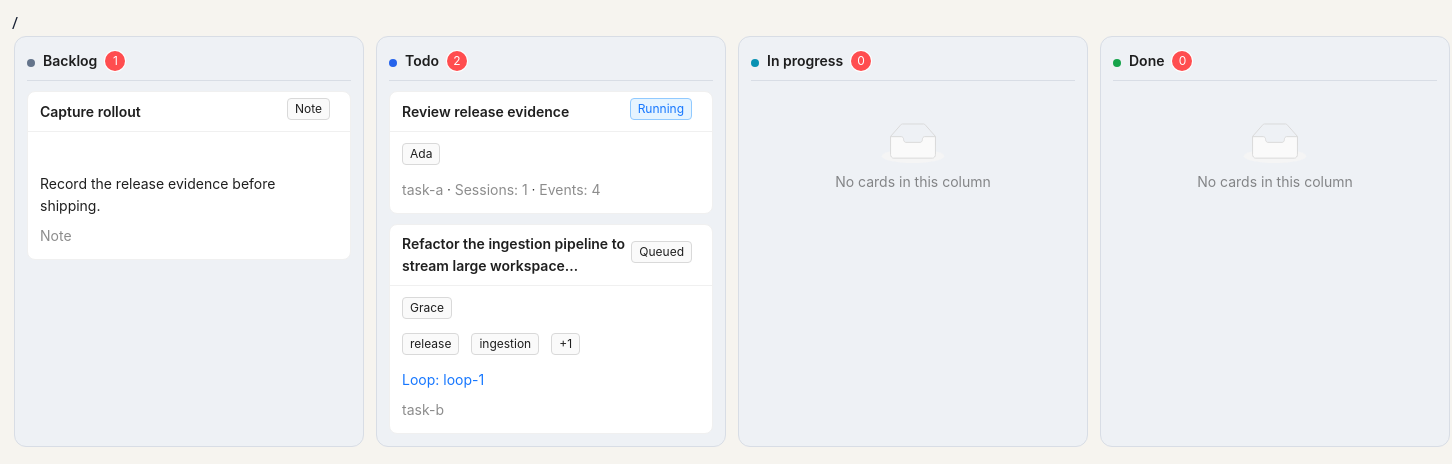
Test case: TaskBoardGrid card activation › navigates a task card with a session to exactly the session route
Click the link with aria-label "Open task session: Review release evidence".
click(551, 152)  # box [389, 91, 713, 214]
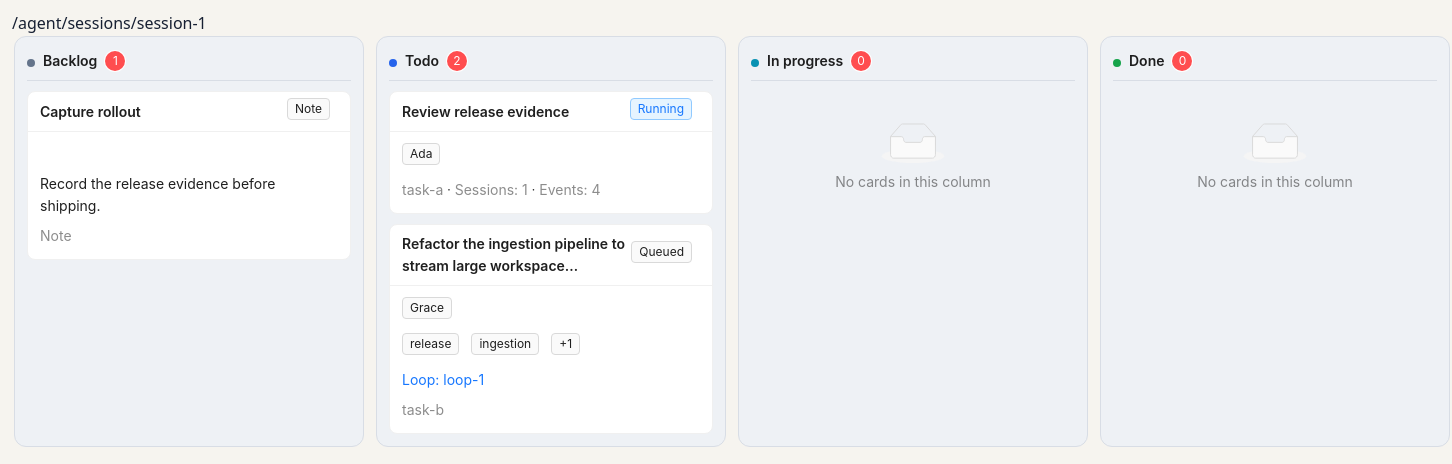
Now the text with test id "grid-location" reads "/agent/sessions/session-1", box [12, 12, 207, 34]
